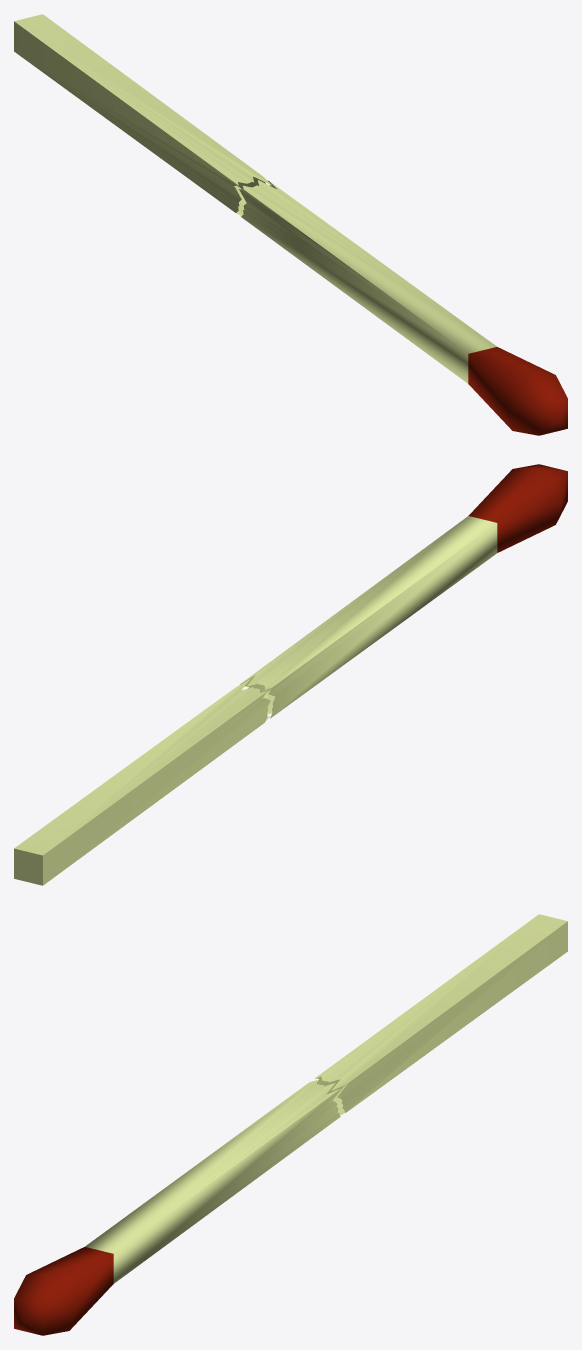
File: Matchstick_fractured.fbx
3 renders of one model, top to bottom at view 1: azimuth 30°, elevation 25°; view 2: azimuth 150°, elevation 25°; view 3: azimuth 330°, elevation 25°, orthographic.
Parts seen in each view (by area): view 1: match, match.001; view 2: match, match.001; view 3: match, match.001.
Boxes of the visible parts, left/top/right/bottom form: match: left=239, top=180, right=567, bottom=435; match.001: left=14, top=14, right=271, bottom=215; match: left=240, top=464, right=567, bottom=718; match.001: left=14, top=679, right=270, bottom=885; match: left=14, top=1080, right=342, bottom=1335; match.001: left=315, top=914, right=567, bottom=1115.
Size of the model in its own units: 11.52 by 11.52 by 191.
